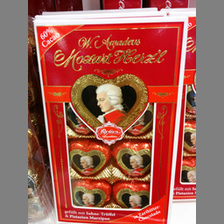chocolate: (33, 14, 189, 223)
